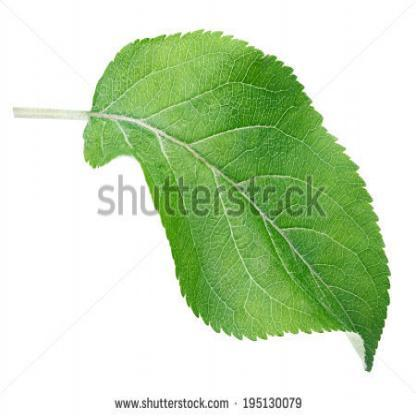Apple leaf: (80, 31, 402, 388)
